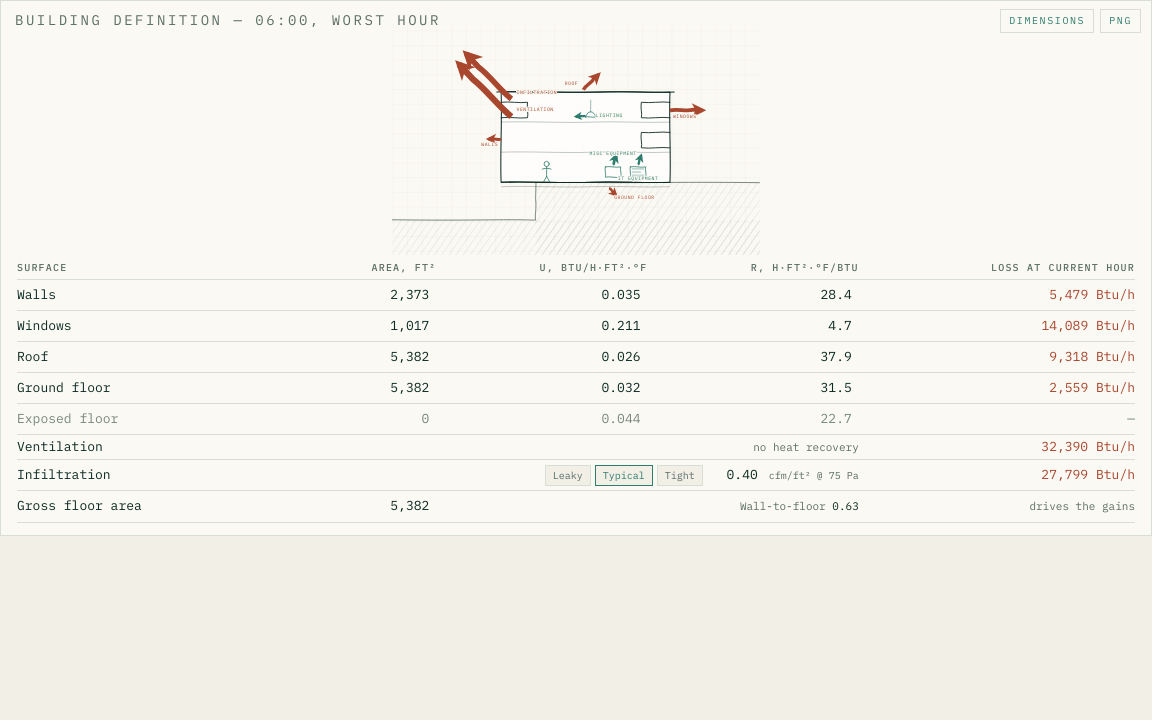
Test: the sketch-box fields carry a unit and convert › shows length and width in feet under IP
Click the button "Dimensions". click: (1047, 21)
box: x1=1000 y1=9 x2=1094 y2=32
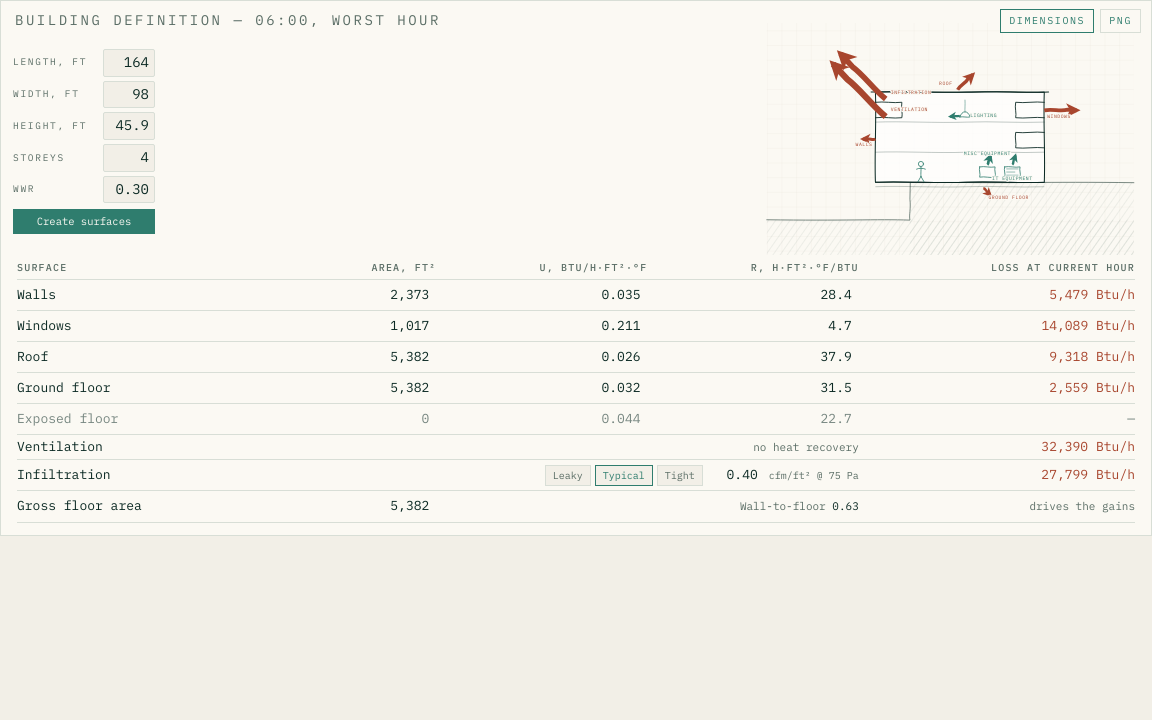
Expected: the field named "Box length, ft" holds "164", x1=103 y1=49 x2=155 y2=77
Expected: the field named "Box width, ft" holds "98", x1=103 y1=81 x2=155 y2=108
